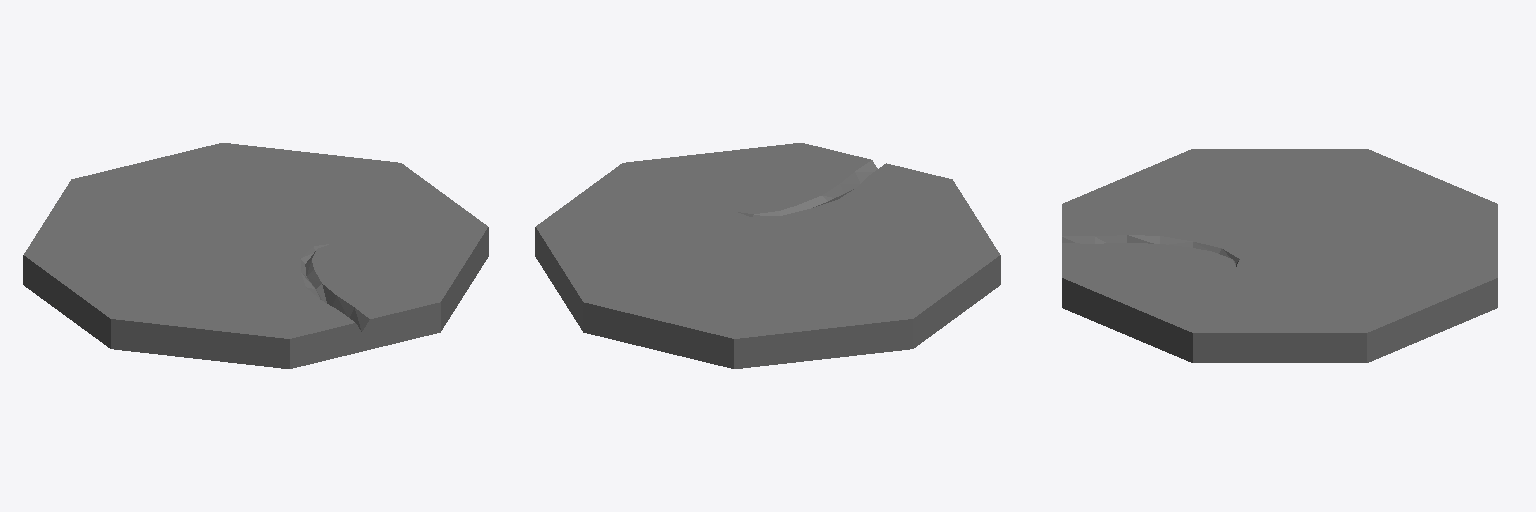
File: airPadLo.obj
The picture shows the model from 3 angles: view 1: azimuth 30°, elevation 25°; view 2: azimuth 150°, elevation 25°; view 3: azimuth 270°, elevation 25°; orthographic projection.
Size of the model in its own units: 22.56 by 1.73 by 22.56.